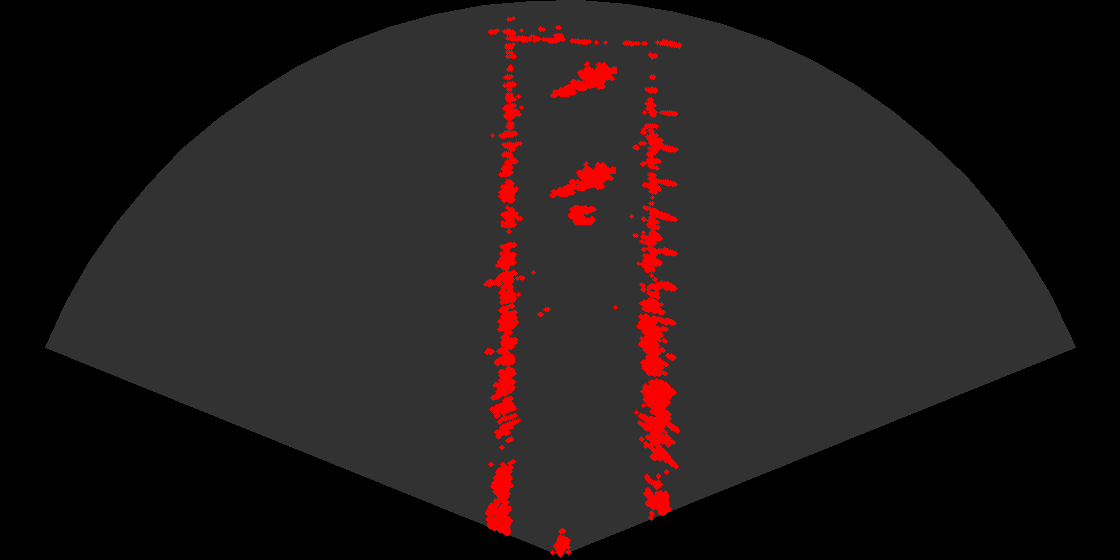ball: (548, 187, 608, 228)
frogman: (549, 55, 617, 102), (548, 155, 616, 202)
